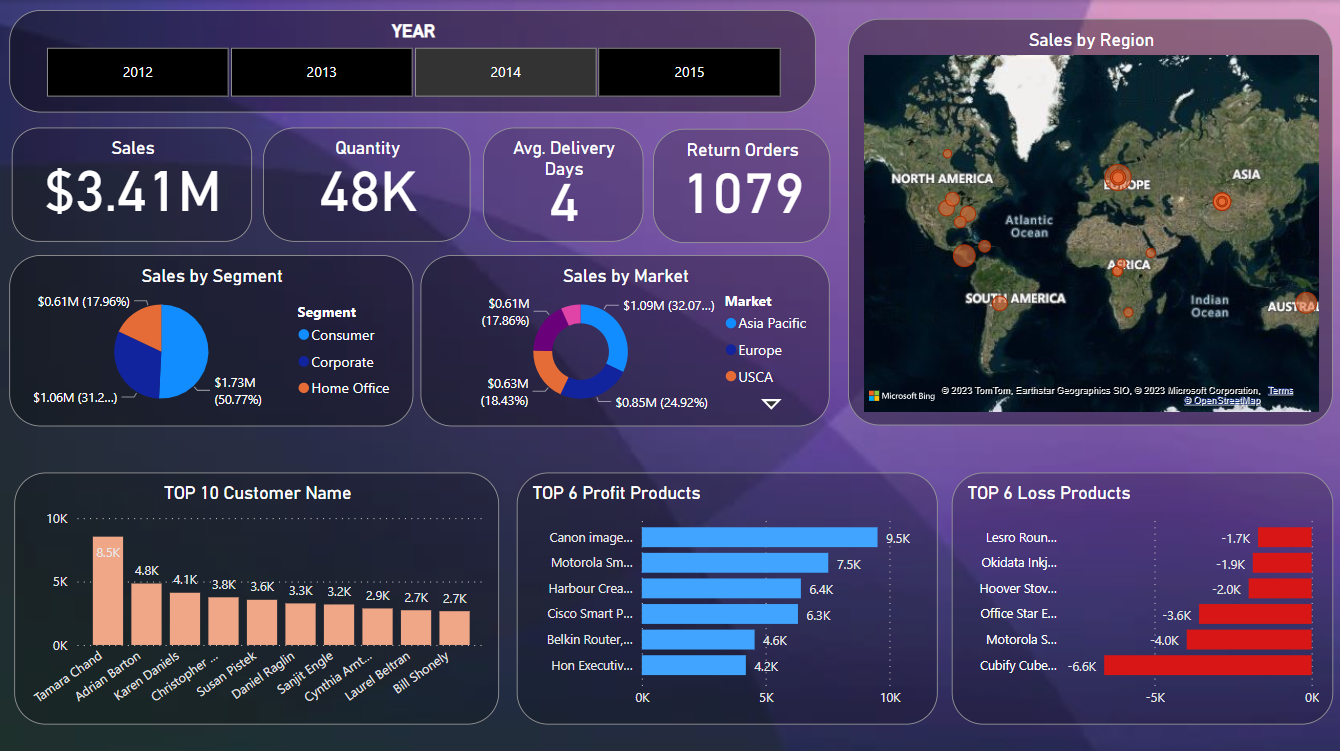

What the dashboard file says about the page in this screenshot:
{"tool":"powerbi","page":{"name":"Page 1","canvas":[1280,720],"ordinal":0},"visuals":[{"type":"card","title":"Sales","fields":{"Values":["Orders.Sales"]},"box":[13.3,121.8,229.1,108.5],"z":0},{"type":"card","title":"Quantity","fields":{"Values":["Orders.Quantity"]},"box":[252.1,121.8,197.8,108.5],"z":1000},{"type":"card","title":"Avg.  Delivery Days","fields":{"Values":["Orders.Delivery Days"]},"box":[461.7,120.9,152.5,108.5],"z":2000},{"type":"slicer","title":"YEAR","fields":{"Values":["Orders.Year"]},"box":[11,9.6,768.1,97.6],"z":3000},{"type":"card","title":"Return Orders","fields":{"Values":["Returns.Return Order"]},"box":[623.8,122.3,169,108.5],"z":4000},{"type":"map","fields":{"Category":["Orders.Region"],"Size":["Orders.Sales"]},"box":[809.2,18.1,461.9,387.1],"z":5000},{"type":"clusteredBarChart","title":"TOP 6 Profit Products","fields":{"Y":["Orders.Profit"],"Category":["Orders.Product Name"]},"box":[494.5,449.8,400.4,240],"z":6000},{"type":"clusteredBarChart","title":"TOP 6 Loss Products","fields":{"Y":["Orders.Profit"],"Category":["Orders.Product Name"]},"box":[908.1,449.8,363,240],"z":7000},{"type":"pieChart","title":"Sales by Segment","fields":{"Category":["Orders.Segment"],"Y":["Orders.Sales"]},"box":[10.9,242.4,384.7,162.8],"z":8000},{"type":"donutChart","title":"Sales by Market","fields":{"Y":["Orders.Sales"],"Category":["Orders.Market"]},"box":[402.8,242.4,389.5,162.8],"z":9000},{"type":"columnChart","title":"TOP 10 Customer Name","fields":{"Category":["Orders.Customer Name"],"Y":["Orders.Profit"]},"box":[15.7,449.8,461.9,240],"z":10000}]}

Visuals, with their boxes in screenshot pixels (x1, y1, x2, y2), scaled from the page's 1280x720 canvas onto the 1340x751 screenshot:
"Sales" card: (14, 127, 254, 240)
"Quantity" card: (264, 127, 471, 240)
"Avg.  Delivery Days" card: (483, 126, 643, 239)
"YEAR" slicer: (12, 10, 816, 112)
"Return Orders" card: (653, 128, 830, 241)
map - Orders.Region x Orders.Sales: (847, 19, 1331, 423)
"TOP 6 Profit Products" clusteredBarChart: (518, 469, 937, 719)
"TOP 6 Loss Products" clusteredBarChart: (951, 469, 1331, 719)
"Sales by Segment" pieChart: (11, 253, 414, 423)
"Sales by Market" donutChart: (422, 253, 829, 423)
"TOP 10 Customer Name" columnChart: (16, 469, 500, 719)
